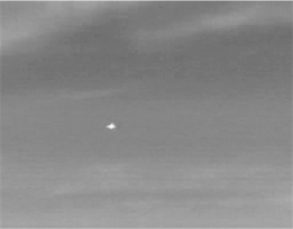Target: (108, 123, 116, 128)
